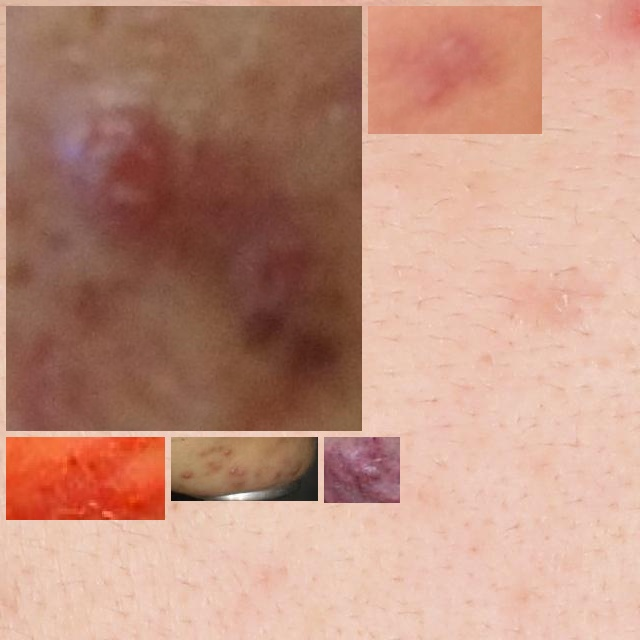nodule: (14, 14, 354, 423), (376, 14, 534, 126), (14, 445, 157, 520), (179, 445, 310, 493), (332, 445, 392, 495)
